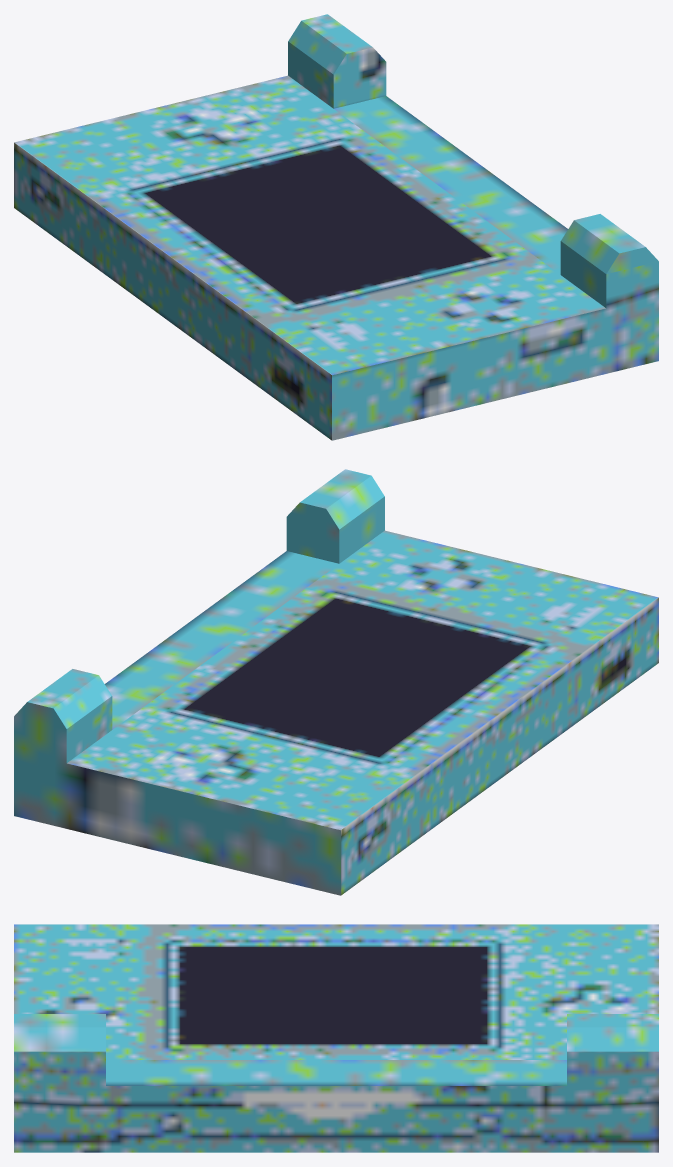
File: ds-bottom.obj
3 renders of one model, top to bottom at view 1: azimuth 30°, elevation 25°; view 2: azimuth 150°, elevation 25°; view 3: azimuth 270°, elevation 25°, orthographic.
Parts seen in each view (by area): view 1: bottom; view 2: bottom; view 3: bottom.
Boxes of the visible parts, left/top/right/bottom form: bottom: left=14, top=14, right=658, bottom=440; bottom: left=14, top=469, right=658, bottom=895; bottom: left=14, top=924, right=658, bottom=1152.
Bounding box in the file's own units: 3.17 × 1.09 × 5.34.
